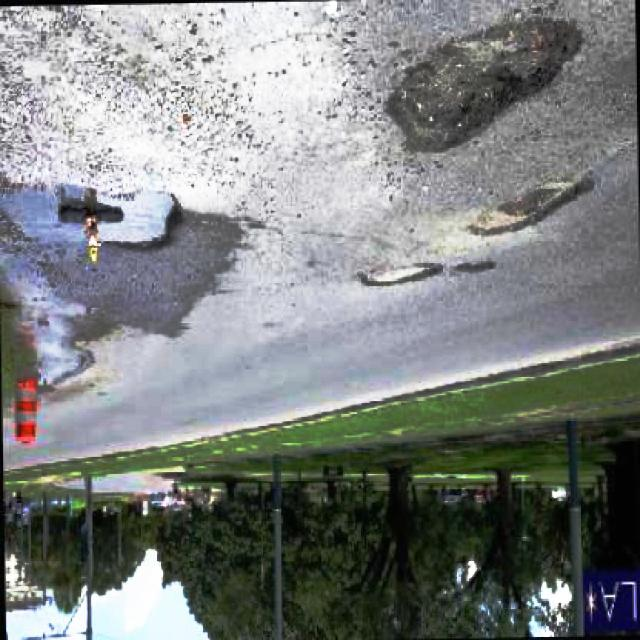pothole: (388, 11, 584, 152), (0, 178, 195, 258), (469, 177, 600, 237), (363, 260, 442, 288)
